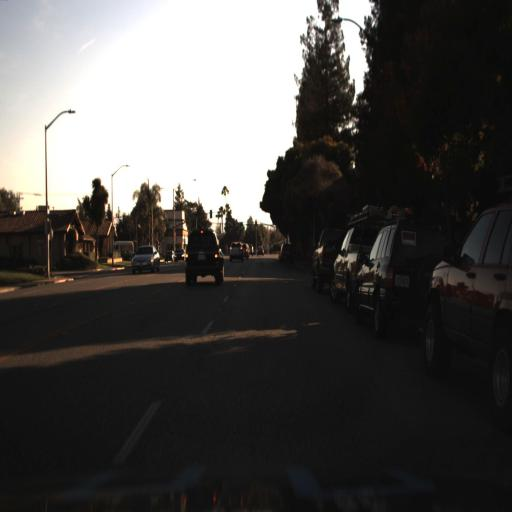car: (422, 206, 512, 439), (363, 219, 451, 354), (331, 216, 371, 322), (183, 226, 225, 288), (308, 224, 340, 299), (128, 242, 163, 272), (277, 240, 299, 271), (111, 236, 137, 262), (227, 239, 245, 266), (172, 247, 186, 263), (254, 241, 266, 257)
